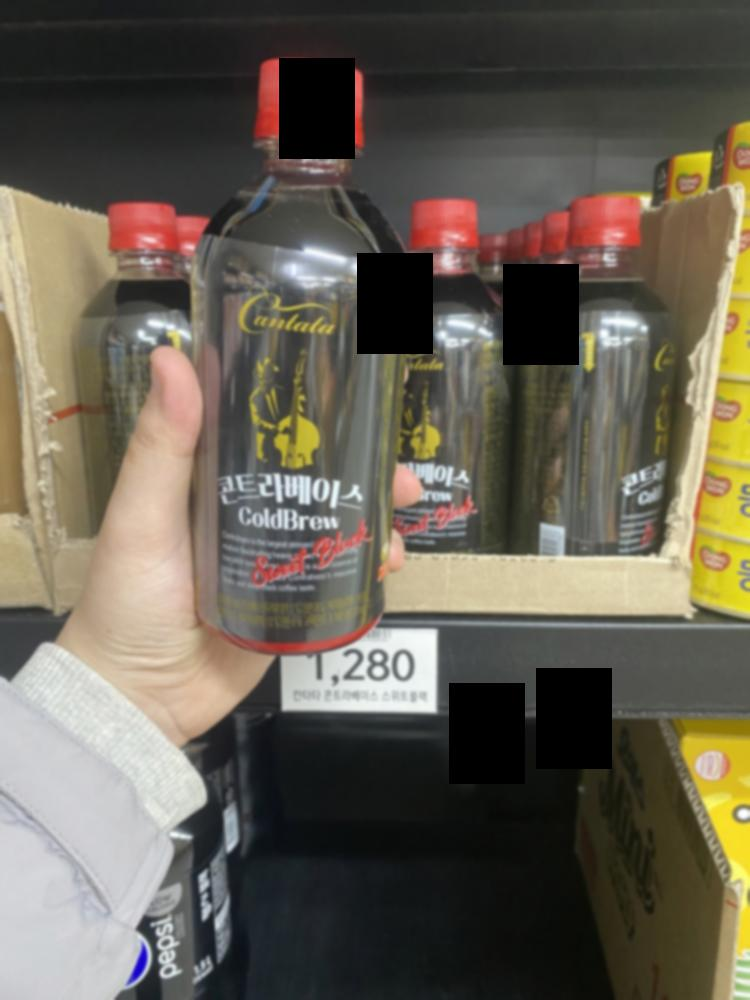contrabass_sweetblack: (183, 52, 408, 656), (523, 192, 692, 553), (399, 194, 525, 554)
